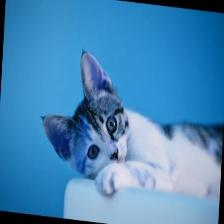kedo: (45, 52, 224, 195)
